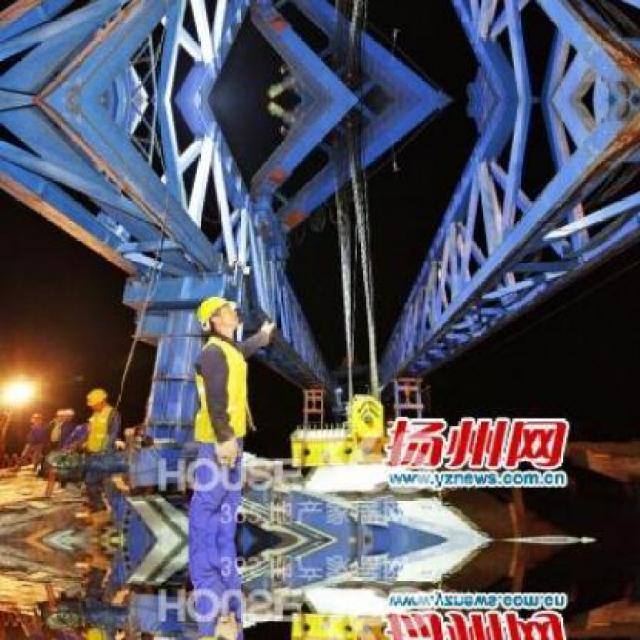helmet: (194, 291, 240, 340), (83, 386, 111, 414)
